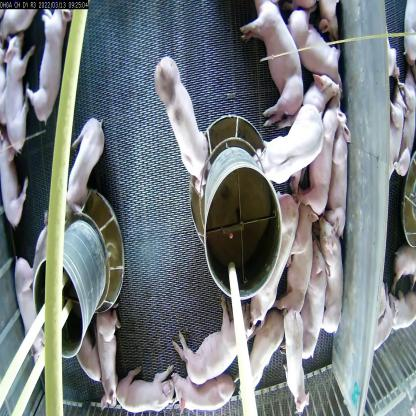Pig: (154, 59, 214, 190), (246, 0, 302, 129), (176, 296, 246, 377), (266, 106, 328, 188), (29, 8, 70, 129), (259, 196, 296, 318), (2, 38, 39, 151), (284, 199, 318, 309), (64, 122, 107, 208), (311, 96, 342, 214), (242, 318, 289, 392), (171, 369, 244, 416), (284, 308, 315, 415), (92, 309, 129, 398), (113, 368, 183, 412), (301, 244, 327, 360), (13, 264, 46, 355), (320, 216, 346, 327), (0, 128, 29, 226), (328, 117, 348, 226)
